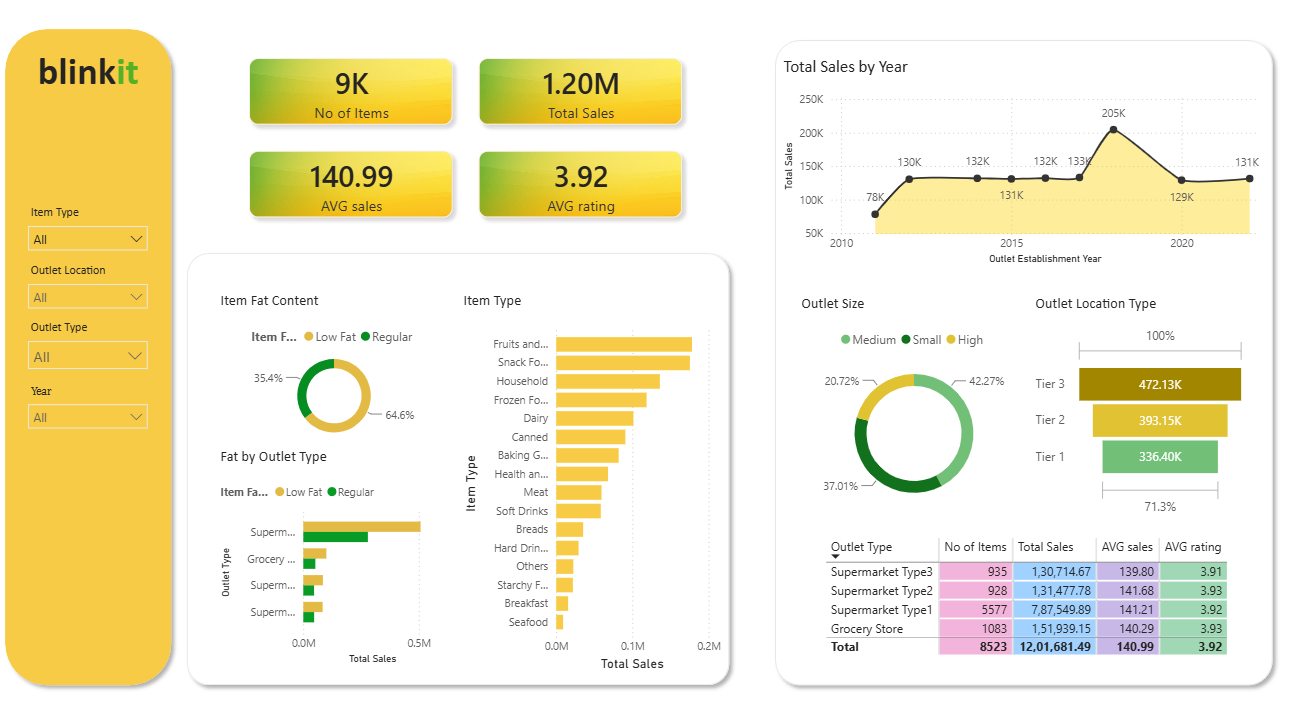

The dashboard page shown, as its layout file describes it:
{"tool":"powerbi","page":{"name":"Page 1","canvas":[1450,800],"ordinal":0},"visuals":[{"type":"shape","box":[0,26.4,202.7,747],"z":0},{"type":"textbox","box":[12.1,50.7,178.5,68.3],"z":1000},{"type":"cardVisual","fields":{"Data":["Blinkit Data.No of Items","Blinkit Data.Total Sales","Blinkit Data.AVG sales","Blinkit Data.AVG rating"]},"box":[251.2,38.6,539.9,236.9],"z":2000},{"type":"shape","box":[855,38.6,570.7,734.9],"z":3000},{"type":"lineChart","title":"Total Sales by Year","fields":{"Y":["Blinkit Data.Total Sales"],"Category":["Blinkit Data.Outlet Establishment Year"]},"box":[869.3,65,541,235.8],"z":4000},{"type":"tableEx","fields":{"Values":["Blinkit Data.Outlet Type","Blinkit Data.No of Items","Blinkit Data.Total Sales","Blinkit Data.AVG sales","Blinkit Data.AVG rating"]},"box":[915.6,596.1,466.1,149.8],"z":5000},{"type":"donutChart","title":"Outlet Size","fields":{"Y":["Blinkit Data.Total Sales"],"Category":["Blinkit Data.Outlet Size"]},"box":[889.2,330.5,260,251.2],"z":6000},{"type":"funnel","title":"Outlet Location Type","fields":{"Category":["Blinkit Data.Outlet Location Type"],"Y":["Blinkit Data.Total Sales"]},"box":[1149.2,330.5,243.5,251.2],"z":7000},{"type":"shape","box":[202.7,275.5,620.3,498],"z":8000},{"type":"barChart","title":" Item Type","fields":{"Category":["Blinkit Data.Item Type"],"Y":["Blinkit Data.Total Sales"]},"box":[513.4,326.1,296.4,426.4],"z":9000},{"type":"donutChart","title":"Item Fat Content","fields":{"Category":["Blinkit Data.Item Fat Content"],"Y":["Blinkit Data.Total Sales"]},"box":[243.5,326.1,262.2,174.1],"z":10000},{"type":"clusteredBarChart","title":"Fat by Outlet Type","fields":{"Category":["Blinkit Data.Outlet Type"],"Y":["Blinkit Data.Total Sales"],"Series":["Blinkit Data.Item Fat Content"]},"box":[243.5,500.2,269.9,245.7],"z":11000},{"type":"slicer","fields":{"Values":["Blinkit Data.Item Type"]},"box":[24.2,225.9,153.2,63.9],"z":12000},{"type":"slicer","fields":{"Values":["Blinkit Data.Outlet Location Type"]},"box":[24.4,290,153.2,63],"z":13000},{"type":"slicer","fields":{"Values":["Blinkit Data.Outlet Type"]},"box":[24.4,353.3,153,63],"z":14000},{"type":"slicer","fields":{"Values":["Blinkit Data.Outlet Establishment Year"]},"box":[24.4,424.4,153,63],"z":15000}]}

Visuals, with their boxes in screenshot pixels (x1, y1, x2, y2), scaled from the page's 1450x800 canvas onto the 1300x712 screenshot:
shape: bbox(0, 23, 182, 688)
textbox: bbox(11, 45, 171, 106)
cardVisual - Blinkit Data.No of Items x Blinkit Data.Total Sales: bbox(225, 34, 709, 245)
shape: bbox(767, 34, 1278, 688)
"Total Sales by Year" lineChart: bbox(779, 58, 1264, 268)
tableEx - Blinkit Data.Outlet Type x Blinkit Data.No of Items: bbox(821, 531, 1239, 664)
"Outlet Size" donutChart: bbox(797, 294, 1030, 518)
"Outlet Location Type" funnel: bbox(1030, 294, 1249, 518)
shape: bbox(182, 245, 738, 688)
" Item Type" barChart: bbox(460, 290, 726, 670)
"Item Fat Content" donutChart: bbox(218, 290, 453, 445)
"Fat by Outlet Type" clusteredBarChart: bbox(218, 445, 460, 664)
slicer - Blinkit Data.Item Type: bbox(22, 201, 159, 258)
slicer - Blinkit Data.Outlet Location Type: bbox(22, 258, 159, 314)
slicer - Blinkit Data.Outlet Type: bbox(22, 314, 159, 371)
slicer - Blinkit Data.Outlet Establishment Year: bbox(22, 378, 159, 434)
